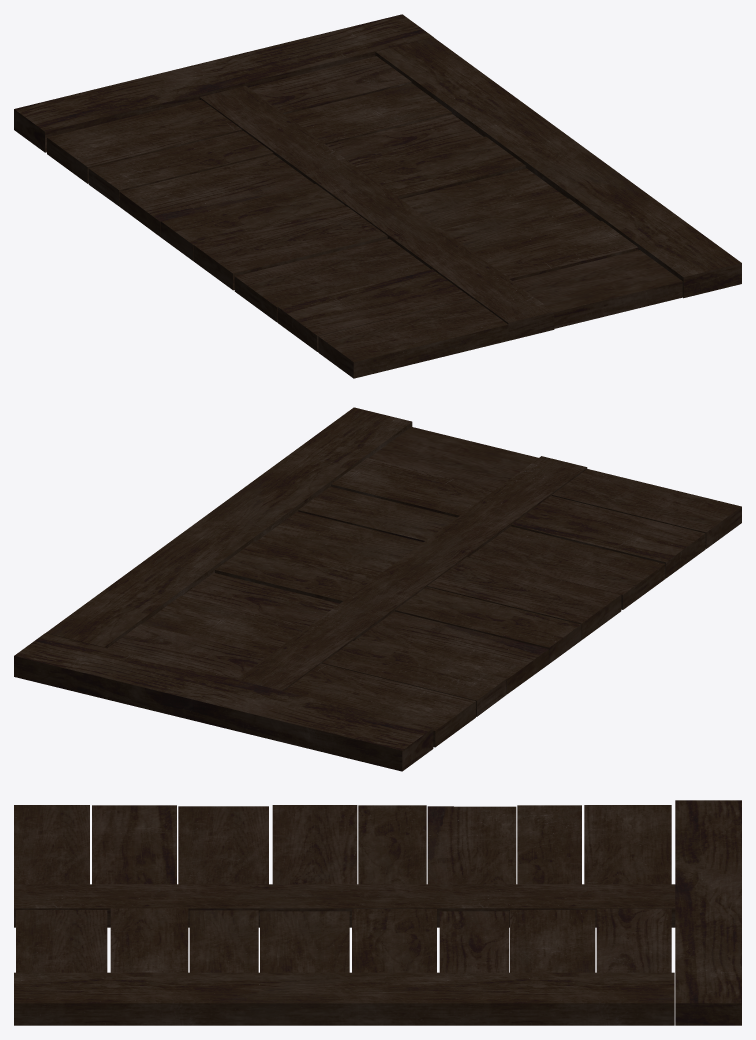
File: SM_Floor01b.fbx
The picture shows the model from 3 angles, top to bottom: view 1: azimuth 30°, elevation 25°; view 2: azimuth 150°, elevation 25°; view 3: azimuth 270°, elevation 25°; orthographic projection. The views are drawn at different scales.
Visible parts, largest first — view 1: SM_Floor01b; view 2: SM_Floor01b; view 3: SM_Floor01b.
Part boxes in pixels (x1,y1,x2,y2): SM_Floor01b: (14, 14, 741, 378); SM_Floor01b: (14, 407, 741, 771); SM_Floor01b: (14, 800, 741, 1025).
Bounding box in the file's own units: 165 × 250 × 8.5.
1 material, 1 textured.
